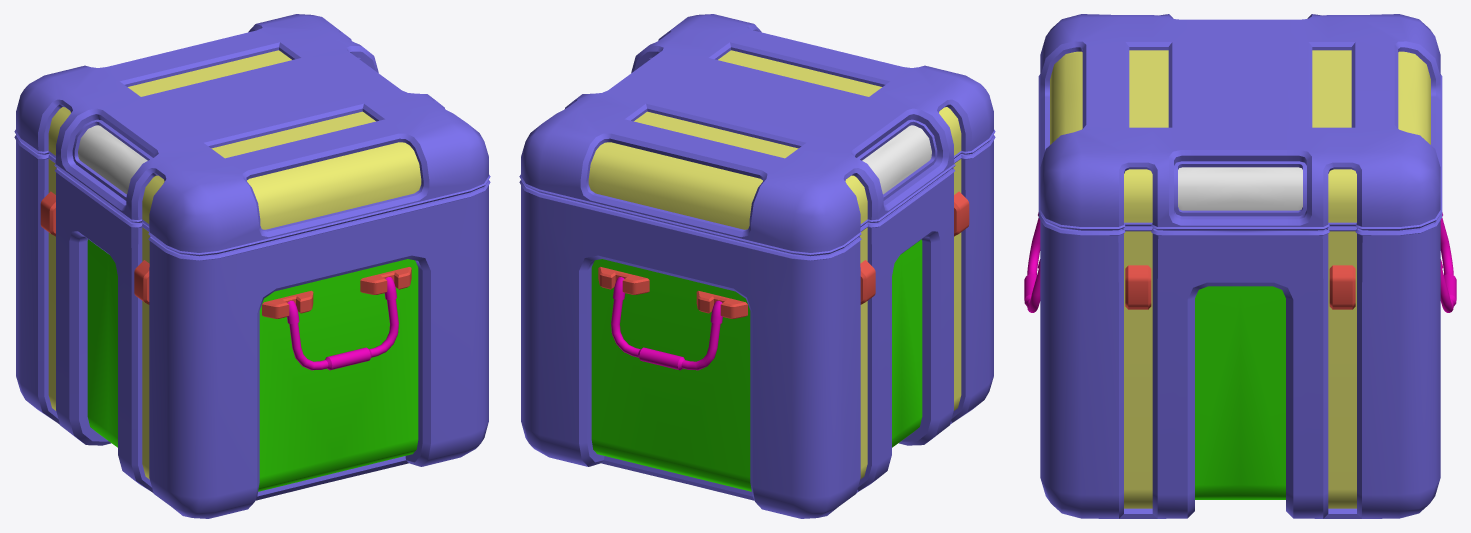
The model's file is SM_Crate_1.fbx.
3 views of the same model, side by side, from view 1: azimuth 30°, elevation 25°; view 2: azimuth 150°, elevation 25°; view 3: azimuth 270°, elevation 25° (orthographic). The views are drawn at different scales.
Visible parts, largest first — view 1: Cube.010; view 2: Cube.010; view 3: Cube.010.
Part boxes in pixels (x1,y1,x2,y2): Cube.010: (14,14,490,518); Cube.010: (519,14,995,518); Cube.010: (1024,14,1456,518).
Bounding box in the file's own units: 75.77 × 75.11 × 80.89.
